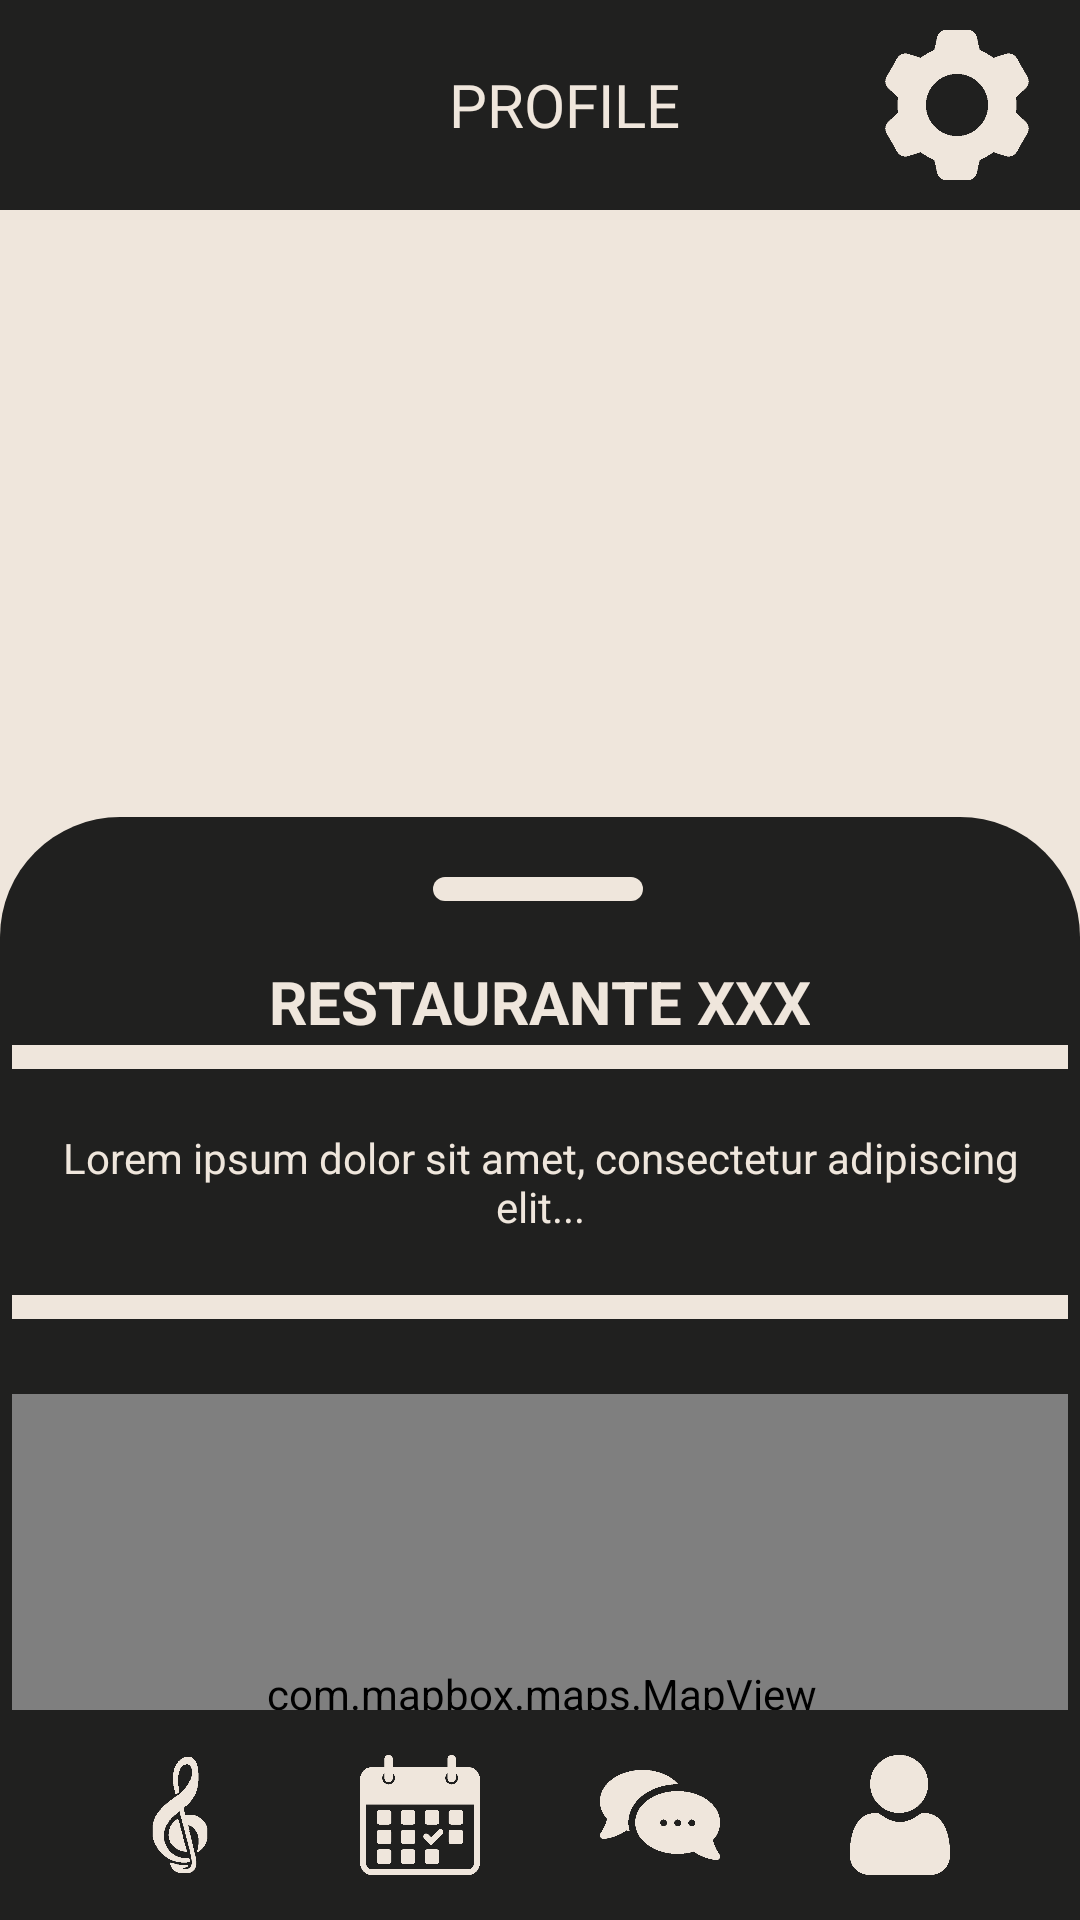

Where icons sit on this 1080×1920 app screen, as (x1, y1, x2, y2):
chat: (600, 1770, 720, 1860)
musician: (152, 1757, 208, 1873)
settings: (885, 30, 1029, 180)
user: (850, 1755, 950, 1875)
